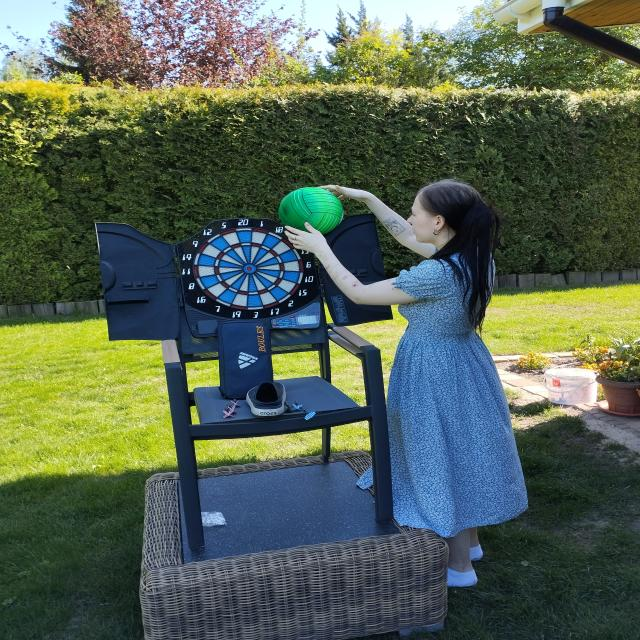zielona: (278, 187, 344, 235)
